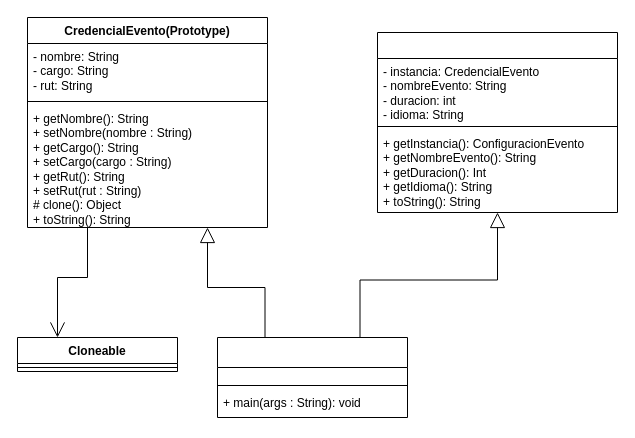
This 635x438 diagram has some shape labels left out. The box of each missing label's shape, as (x1, y1, x2, y2) in pixels:
ConfiguracionEvento(Singleton): (376, 32, 618, 212)
GeneradorDeCredenciales: (216, 336, 408, 418)
